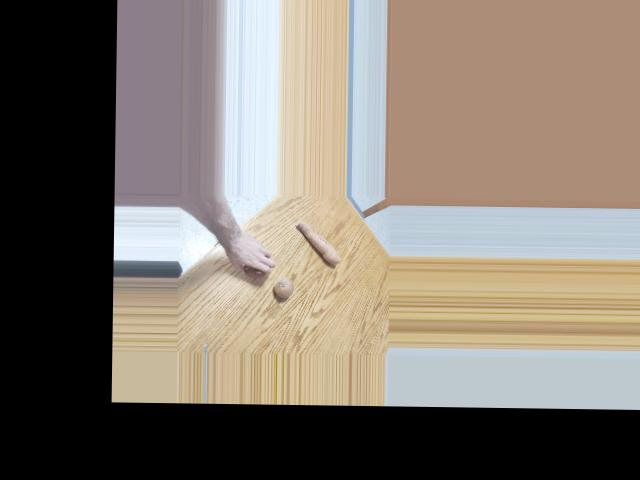onion: (247, 260, 267, 280)
